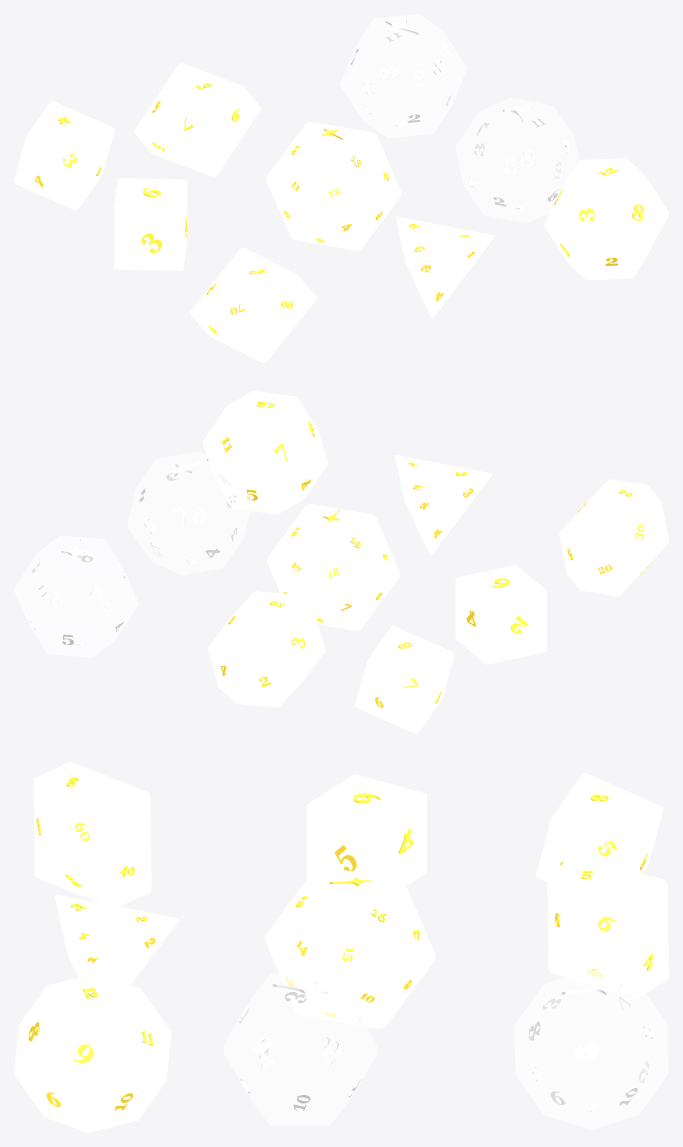
File: oficial-set.glb
3 renders of one model, top to bottom at view 1: azimuth 30°, elevation 25°; view 2: azimuth 150°, elevation 25°; view 3: azimuth 270°, elevation 25°, orthographic. The views are drawn at different scales.
Parts seen in each view (by area): view 1: Dado_d20, Dado_d12_Esperanza, Dado_d12_Miedo, Dado_d12, Dado_d10, Dado_d00, Dado_d8, Dado_d6, Dado_d4, Num_d12_Esperanza, Num_d12_Miedo, Num_d12; view 2: Dado_d20, Dado_d12_Esperanza, Dado_d12, Dado_d12_Miedo, Dado_d10, Dado_d00, Dado_d6, Dado_d8, Dado_d4, Num_d12_Esperanza, Num_d12_Miedo; view 3: Dado_d20, Dado_d12, Dado_d12_Miedo, Dado_d12_Esperanza, Dado_d10, Dado_d00, Dado_d6, Dado_d8, Dado_d4, Num_d12_Miedo, Num_d12_Esperanza, Num_d12 (+2 smaller).
Part boxes in pixels (box(x1,y1,x2,y2)): Dado_d20: box(266, 122, 401, 250); Dado_d12_Esperanza: box(455, 97, 579, 223); Dado_d12_Miedo: box(340, 14, 466, 138); Dado_d12: box(544, 158, 668, 280); Dado_d10: box(134, 63, 260, 176); Dado_d00: box(190, 248, 316, 362); Dado_d8: box(14, 101, 114, 210); Dado_d6: box(114, 178, 187, 270); Dado_d4: box(396, 216, 494, 318); Num_d12_Esperanza: box(469, 102, 569, 210); Num_d12_Miedo: box(350, 21, 454, 126); Num_d12: box(554, 168, 656, 265); Dado_d20: box(267, 504, 399, 630); Dado_d12_Esperanza: box(127, 451, 252, 575); Dado_d12: box(202, 391, 328, 514); Dado_d12_Miedo: box(14, 535, 138, 657); Dado_d10: box(208, 591, 325, 707); Dado_d00: box(559, 479, 668, 596); Dado_d6: box(455, 565, 546, 664); Dado_d8: box(355, 626, 454, 733); Dado_d4: box(395, 455, 491, 554); Num_d12_Esperanza: box(139, 459, 238, 564); Num_d12_Miedo: box(26, 539, 125, 646); Dado_d20: box(265, 866, 435, 1028); Dado_d12: box(14, 973, 171, 1132); Dado_d12_Miedo: box(514, 969, 668, 1129); Dado_d12_Esperanza: box(223, 973, 377, 1125); Dado_d10: box(547, 855, 668, 997); Dado_d00: box(33, 762, 151, 906); Dado_d6: box(307, 774, 426, 885); Dado_d8: box(536, 773, 663, 881); Dado_d4: box(55, 894, 178, 985); Num_d12_Miedo: box(529, 979, 655, 1112); Num_d12_Esperanza: box(238, 982, 361, 1112); Num_d12: box(28, 987, 154, 1110).
Size of the model in its own units: 8.13 by 1.88 by 7.88.
